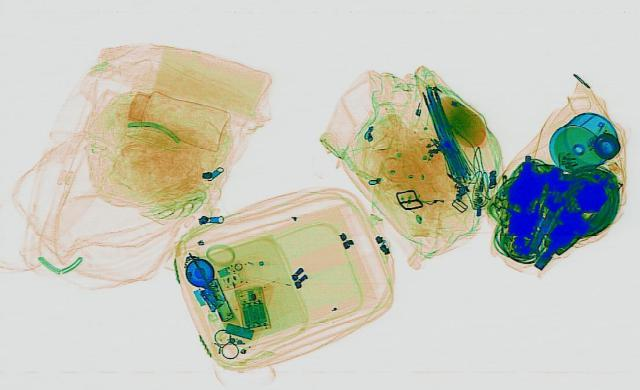Wrench: (519, 191, 567, 257)
